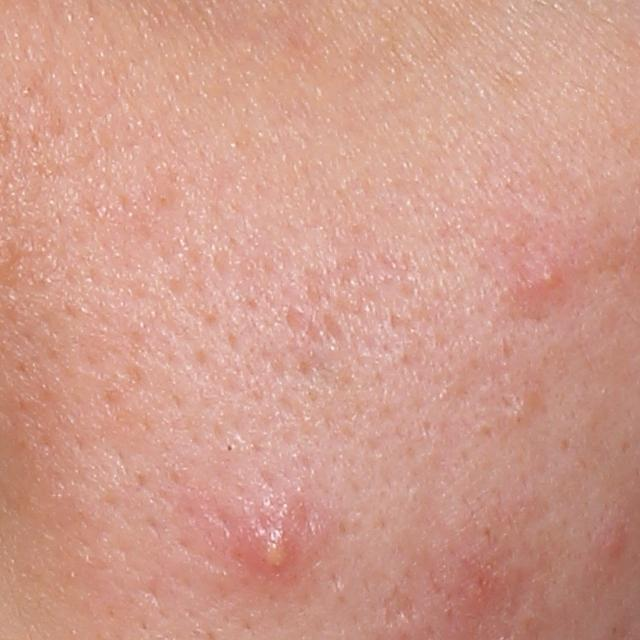atrophic_scar: (385, 587, 417, 627)
comedo: (505, 391, 533, 425)
papule: (600, 522, 630, 565)
pustule: (249, 514, 305, 580)
